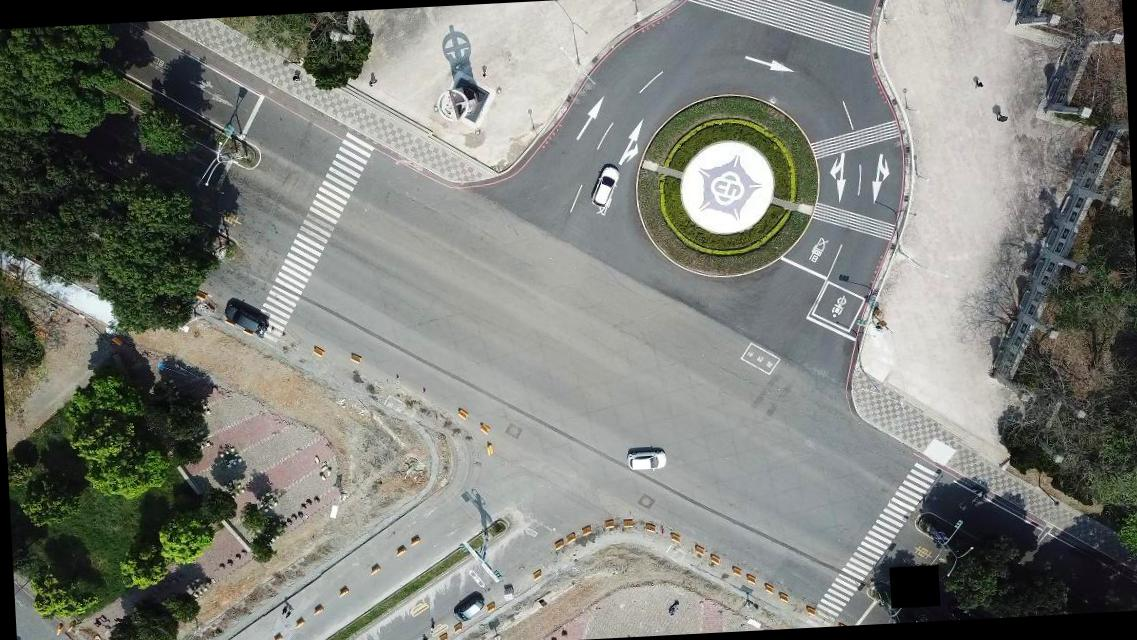vehicle: (222, 299, 268, 336), (589, 164, 621, 209), (625, 448, 666, 473), (452, 596, 484, 624)
